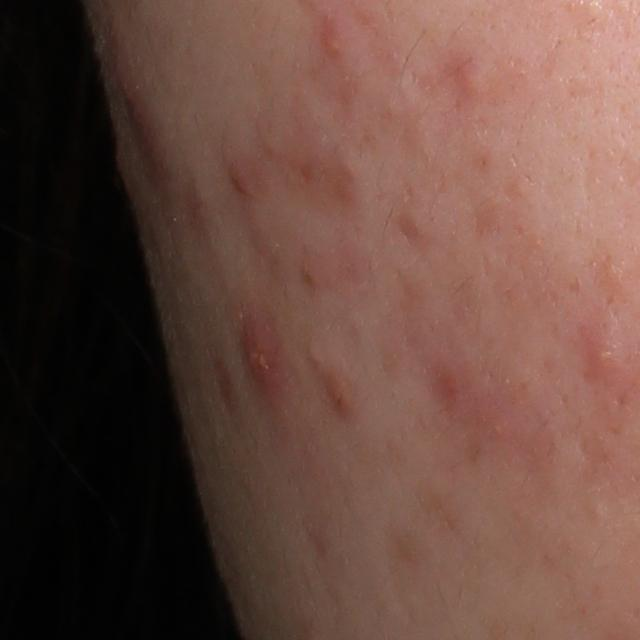papule: (110, 30, 153, 147), (243, 317, 283, 405), (587, 333, 617, 382), (325, 368, 355, 415), (456, 57, 486, 103), (228, 160, 252, 205), (321, 20, 344, 61)
